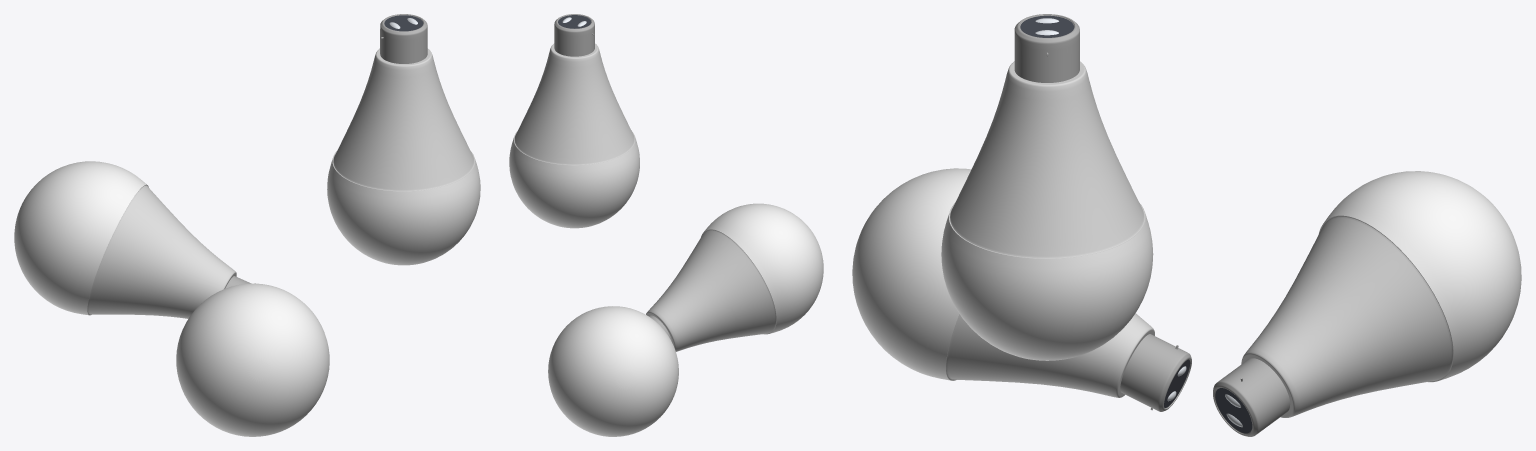
The model's file is 0064_LED_Bulb_01_FBX.fbx.
The picture shows the model from 3 angles, left to right: view 1: azimuth 30°, elevation 25°; view 2: azimuth 150°, elevation 25°; view 3: azimuth 270°, elevation 25°; orthographic projection. The views are drawn at different scales.
Parts seen in each view (by area): view 1: PlasticGlass.002, PlasticBody, PlasticGlass.001, PlasticBody.001, PlasticGlass, MetalCap, PlasticTop; view 2: PlasticGlass.001, PlasticBody, PlasticBody.002, PlasticGlass.002, PlasticGlass, MetalCap, PlasticTop; view 3: PlasticBody.001, PlasticBody, PlasticGlass, PlasticGlass.001, PlasticGlass.002, PlasticBody.002, MetalCap.002, MetalCap, MetalCap.001, PlasticTop.001, PlasticTop.
Boxes of the visible parts, box(x1,y1,x2,y2) form: PlasticGlass.002: box(176, 283, 329, 436); PlasticBody: box(332, 48, 475, 191); PlasticGlass.001: box(14, 161, 148, 315); PlasticBody.001: box(87, 184, 236, 318); PlasticGlass: box(327, 151, 480, 265); MetalCap: box(380, 14, 427, 63); PlasticTop: box(384, 15, 423, 31); PlasticGlass.001: box(548, 306, 678, 436); PlasticBody: box(514, 43, 635, 165); PlasticBody.002: box(646, 229, 776, 351); PlasticGlass.002: box(704, 203, 823, 334); PlasticGlass: box(509, 130, 639, 228); MetalCap: box(554, 14, 594, 56); PlasticTop: box(558, 15, 591, 28); PlasticBody.001: box(1241, 215, 1453, 417); PlasticBody: box(949, 61, 1145, 258); PlasticGlass: box(941, 203, 1153, 360); PlasticGlass.001: box(1320, 171, 1521, 382); PlasticGlass.002: box(852, 168, 971, 380); PlasticBody.002: box(946, 313, 1154, 397); MetalCap.002: box(1120, 334, 1191, 411); MetalCap: box(1014, 14, 1079, 82); MetalCap.001: box(1213, 358, 1290, 436); PlasticTop.001: box(1215, 388, 1252, 433); PlasticTop: box(1020, 15, 1074, 37).
Bounding box in the file's own units: 71.22 × 73.22 × 94.67.
Materials: 7 (7 with a texture image).
